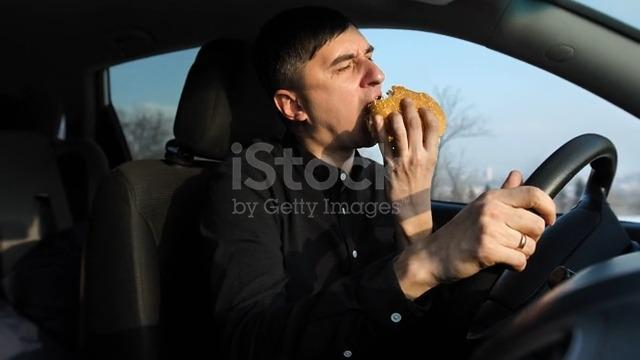Eating: (238, 7, 448, 202)
